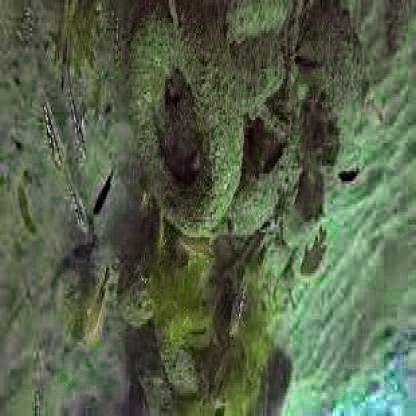tire: (136, 20, 279, 270)
